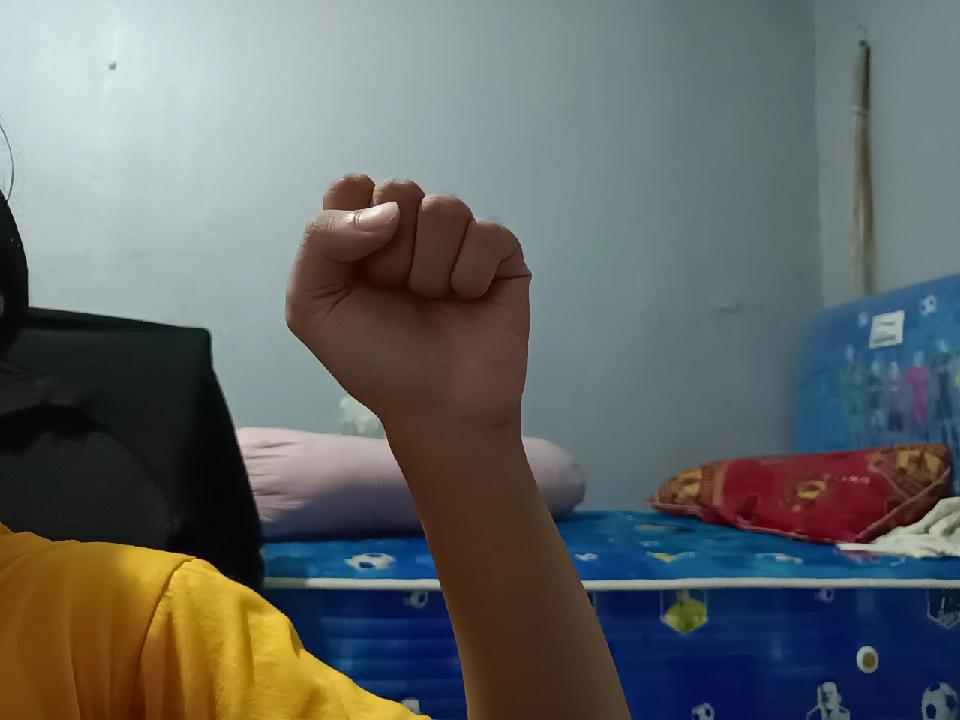rock: (282, 164, 532, 422)
